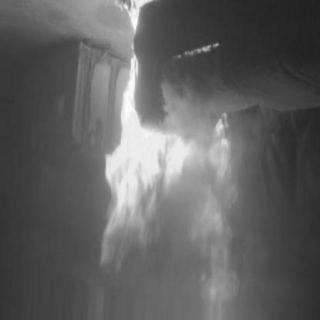Fire: (93, 116, 235, 286)
